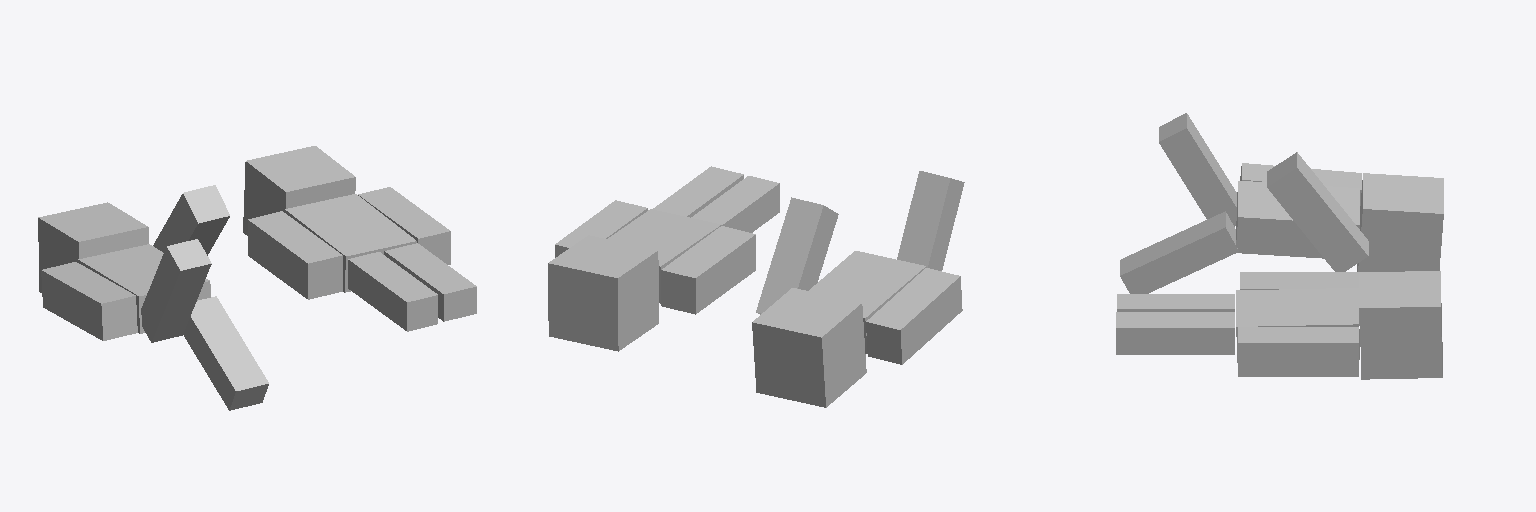
The model's file is steve_000023.obj.
The picture shows the model from 3 angles: view 1: azimuth 30°, elevation 25°; view 2: azimuth 150°, elevation 25°; view 3: azimuth 270°, elevation 25°; orthographic projection.
Visible parts, largest first — view 1: Cube.001_Cube.002, Cube_Cube.001; view 2: Cube_Cube.001, Cube.001_Cube.002; view 3: Cube.001_Cube.002, Cube_Cube.001.
Part boxes in pixels (x1,y1,x2,y2): Cube.001_Cube.002: (243, 146, 476, 331); Cube_Cube.001: (38, 185, 268, 410); Cube_Cube.001: (752, 171, 964, 407); Cube.001_Cube.002: (548, 166, 779, 351); Cube.001_Cube.002: (1116, 271, 1442, 379); Cube_Cube.001: (1120, 113, 1443, 293).
Bounding box in the file's own units: 6.55 × 2.78 × 5.36.